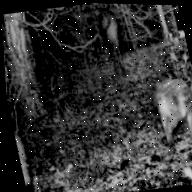boar: (144, 62, 192, 147)
